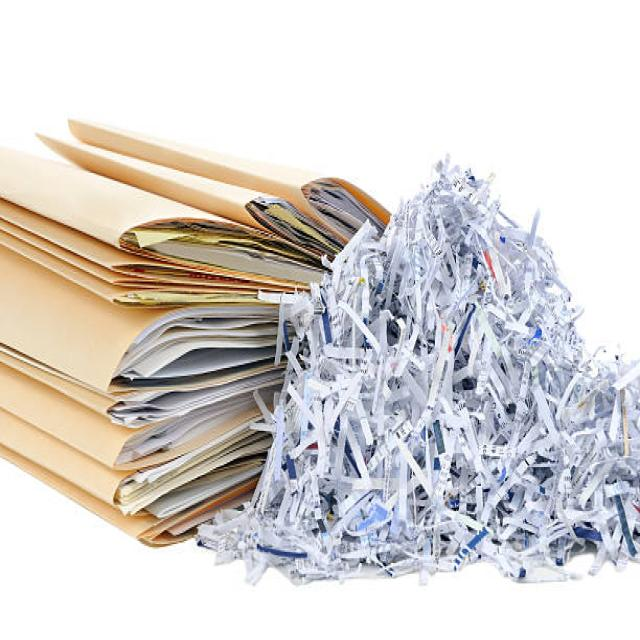paper: (434, 252, 549, 548), (128, 335, 256, 528), (310, 344, 404, 514), (177, 223, 286, 291), (308, 189, 376, 234)
